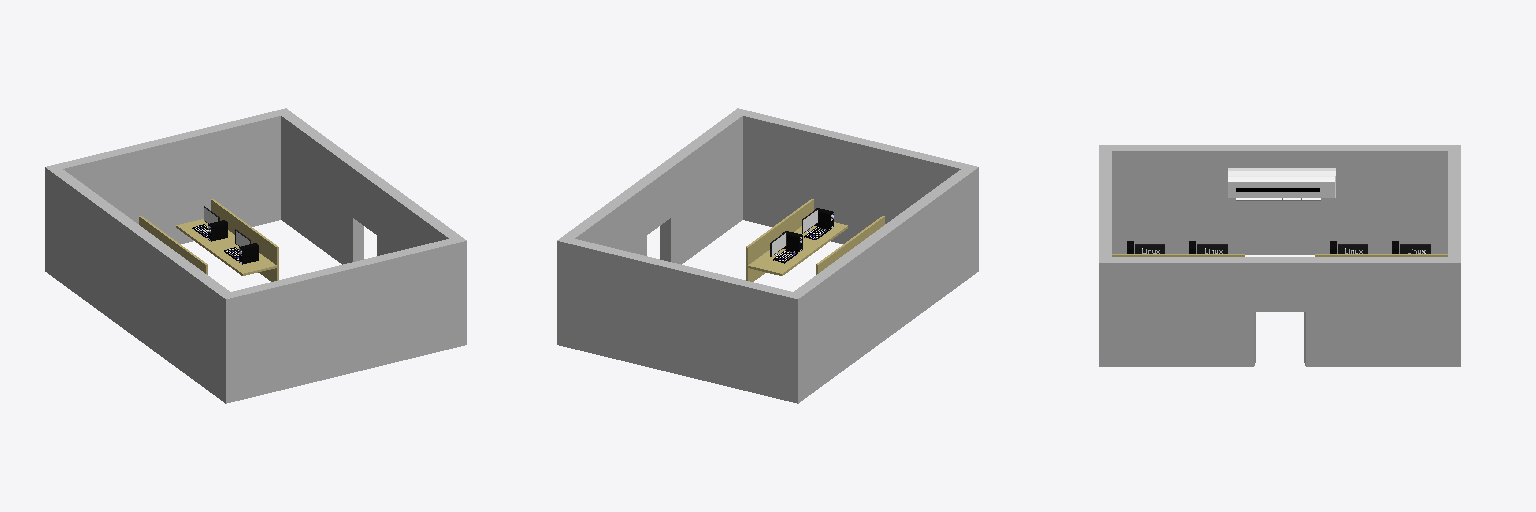
The model's file is sala.obj.
The picture shows the model from 3 angles: view 1: azimuth 30°, elevation 25°; view 2: azimuth 150°, elevation 25°; view 3: azimuth 270°, elevation 25°; orthographic projection.
Parts seen in each view (by area): view 1: Parede, Cube.004, Cube.003; view 2: Parede, Cube.001, Cube.002; view 3: Parede, AC, Cube.002, Cube.003.
Boxes of the visible parts, x1,y1,x2,y2 form: Parede: [45, 108, 466, 403]; Cube.004: [176, 199, 278, 281]; Cube.003: [139, 216, 207, 274]; Parede: [557, 108, 978, 403]; Cube.001: [746, 199, 847, 281]; Cube.002: [816, 216, 884, 274]; Parede: [1099, 145, 1460, 366]; AC: [1228, 168, 1335, 200]; Cube.002: [1112, 241, 1244, 256]; Cube.003: [1315, 241, 1447, 256].
Size of the model in its own units: 15.49 by 6.4 by 20.13.